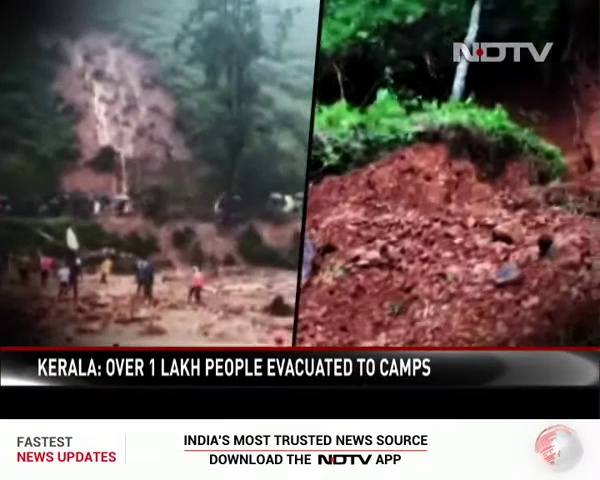person: (67, 257, 82, 303), (137, 258, 153, 299), (190, 264, 207, 302), (40, 253, 52, 287), (16, 253, 29, 284), (59, 263, 68, 307)
vehicle: (270, 190, 303, 216)
